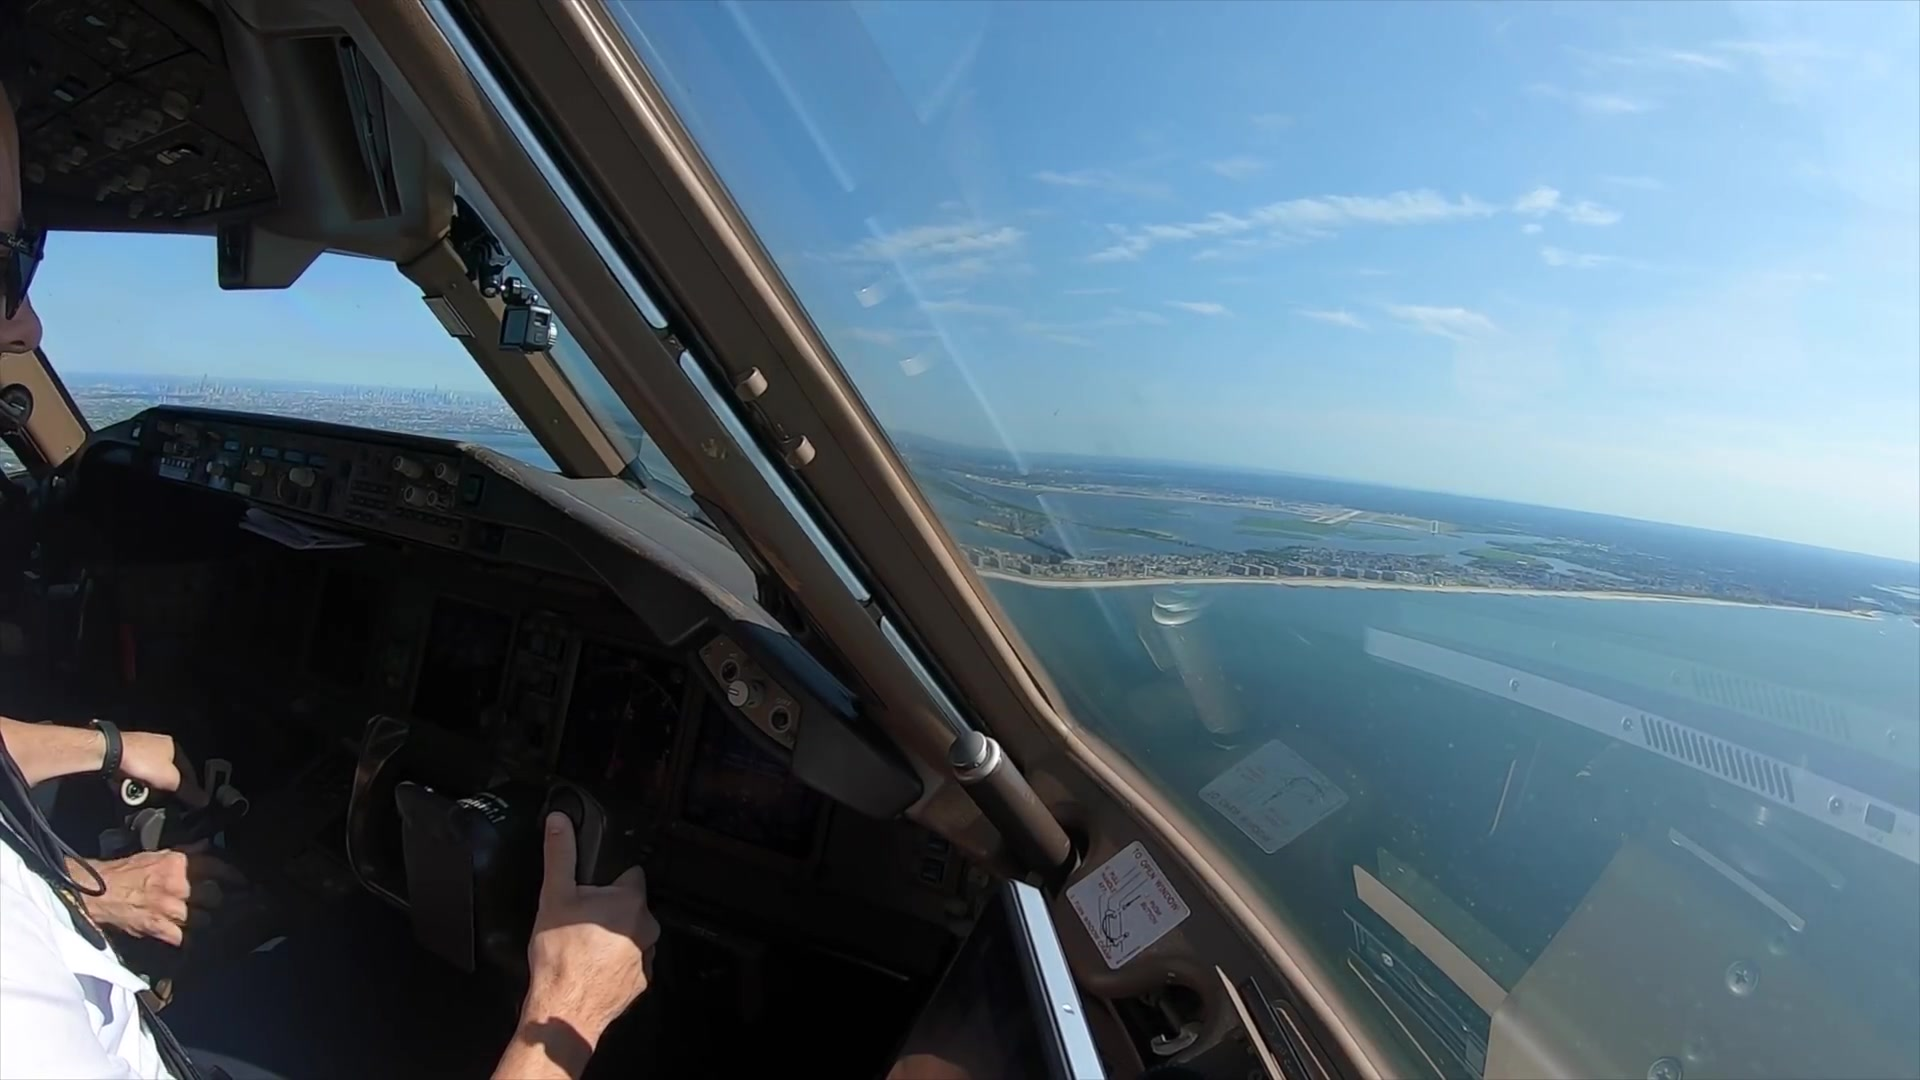runway: (1323, 509, 1365, 525), (1427, 517, 1443, 533)
